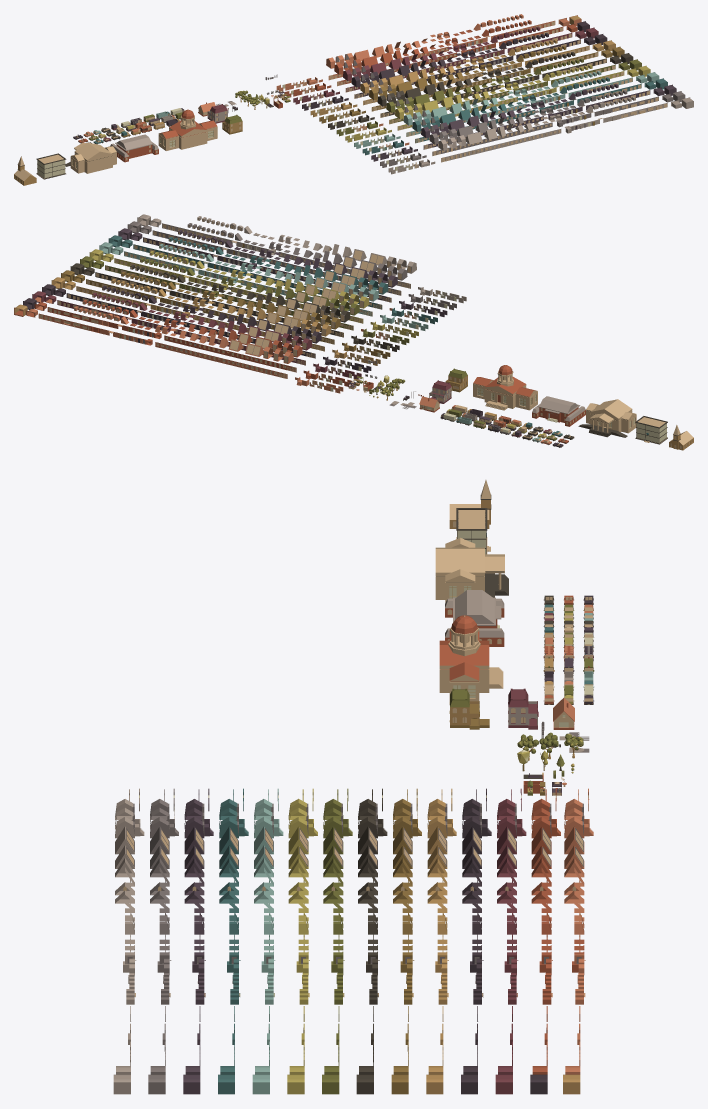
The model's file is Low Poly City Pack.fbx.
3 renders of one model, top to bottom at view 1: azimuth 30°, elevation 25°; view 2: azimuth 150°, elevation 25°; view 3: azimuth 270°, elevation 25°, orthographic. The views are drawn at different scales.
Visible parts, largest first — view 1: WhiteHouse, Theater, Office, Police, Church, HouseBig1, HouseBig2; view 2: WhiteHouse, Theater, Office, Police, HouseBig2, Church, HouseBig1; view 3: WhiteHouse, Theater, Office, Police, HouseBig1, HouseBig2.
Boxes of the visible parts, <box> form: WhiteHouse: <box>158,109,217,150</box>; Theater: <box>65,142,116,173</box>; Office: <box>110,134,158,162</box>; Police: <box>36,153,66,179</box>; Church: <box>14,156,36,185</box>; HouseBig1: <box>222,114,242,134</box>; HouseBig2: <box>207,104,227,123</box>; WhiteHouse: <box>473,365,537,410</box>; Theater: <box>578,399,636,437</box>; Office: <box>532,396,585,426</box>; Police: <box>635,416,667,444</box>; HouseBig2: <box>429,380,451,403</box>; Church: <box>669,425,693,450</box>; HouseBig1: <box>445,368,467,392</box>; WhiteHouse: <box>439,615,503,704</box>; Theater: <box>435,537,508,602</box>; Office: <box>445,590,504,646</box>; Police: <box>456,508,490,554</box>; HouseBig1: <box>449,688,489,729</box>; HouseBig2: <box>508,688,538,729</box>.
Bounding box in the file's own units: 27316 × 1575 × 9688.
